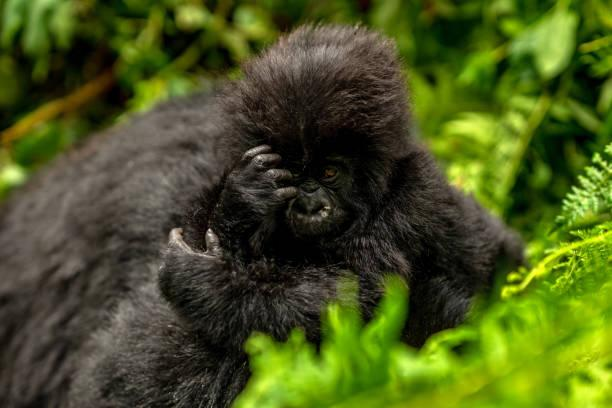goriile_montagne: (174, 39, 502, 337)
